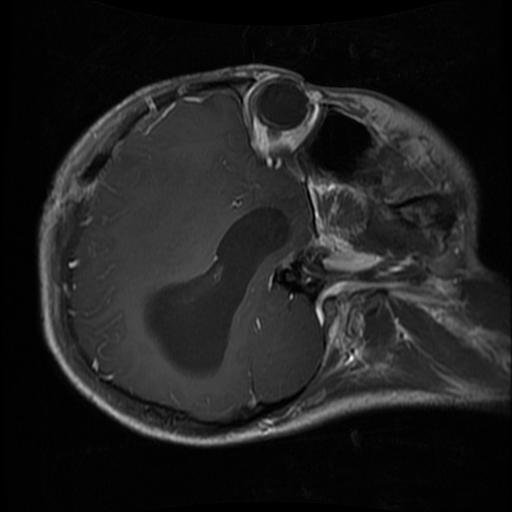glioma: (139, 209, 289, 381)
